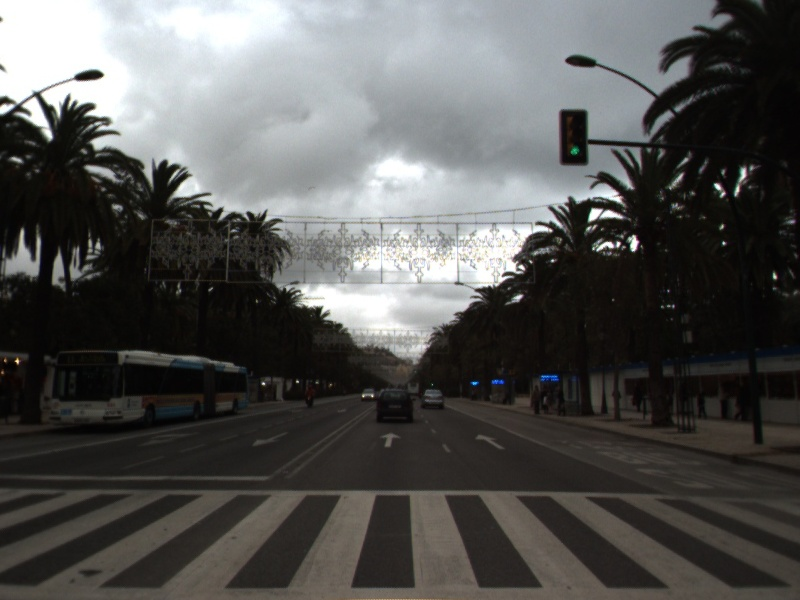STRAIGHT: (473, 432, 508, 451), (378, 430, 404, 449)
